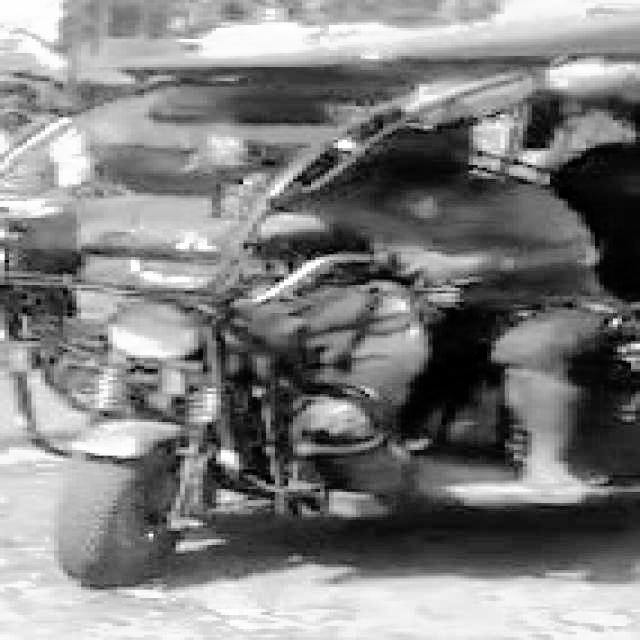Toto: (0, 22, 640, 582)
